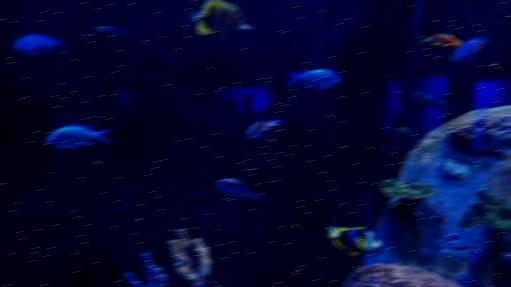Fish: (189, 0, 251, 41), (327, 225, 380, 255), (47, 125, 111, 148), (13, 34, 68, 55), (452, 32, 491, 61), (286, 69, 341, 89), (218, 178, 261, 201), (246, 119, 281, 138), (423, 33, 462, 47), (94, 26, 127, 35)
